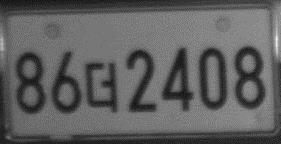0: (197, 46, 227, 110)
2: (124, 49, 157, 114)
4: (159, 45, 195, 112)
6: (49, 49, 81, 113)
8: (234, 45, 266, 109), (13, 52, 46, 112)
더: (83, 60, 120, 114)
